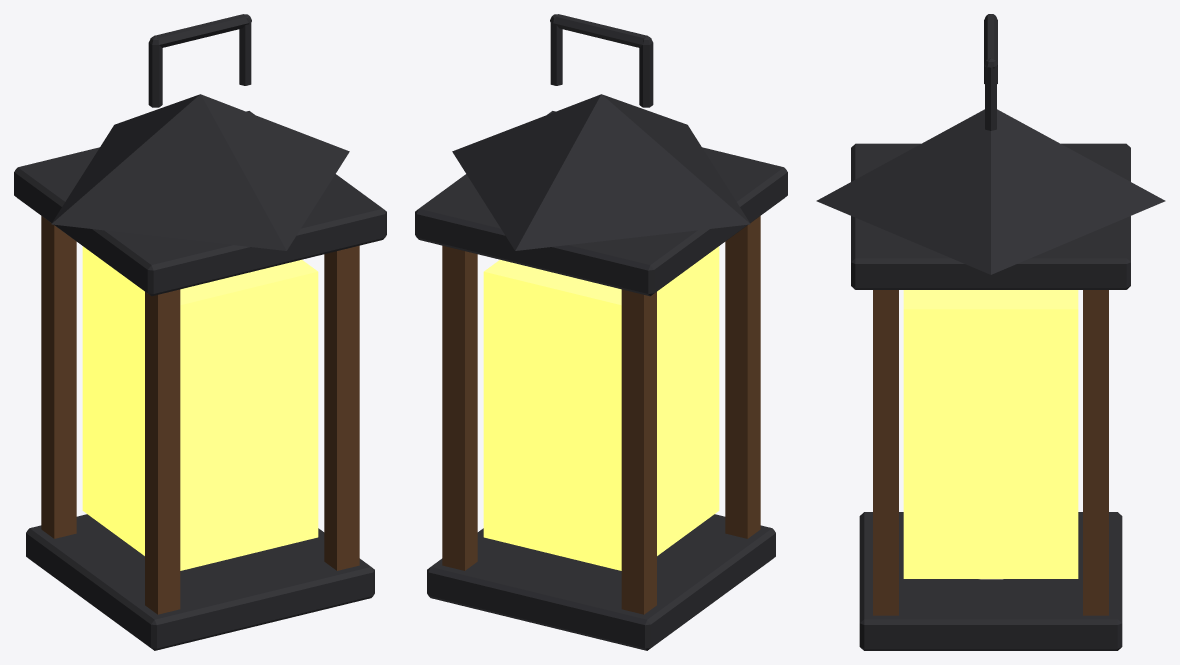
File: lantern_floor.fbx
The picture shows the model from 3 angles, left to right: view 1: azimuth 30°, elevation 25°; view 2: azimuth 150°, elevation 25°; view 3: azimuth 270°, elevation 25°; orthographic projection.
Visible parts, largest first — view 1: lantern_floor_LOD0; view 2: lantern_floor_LOD0; view 3: lantern_floor_LOD0.
Part boxes in pixels (x1=…): lantern_floor_LOD0: x1=14, y1=14, x2=386, y2=650; lantern_floor_LOD0: x1=415, y1=14, x2=787, y2=650; lantern_floor_LOD0: x1=816, y1=14, x2=1165, y2=650.
Size of what is drawn, in the model's own units: 0.4 by 0.708 by 0.4.
2 materials, 1 textured.
